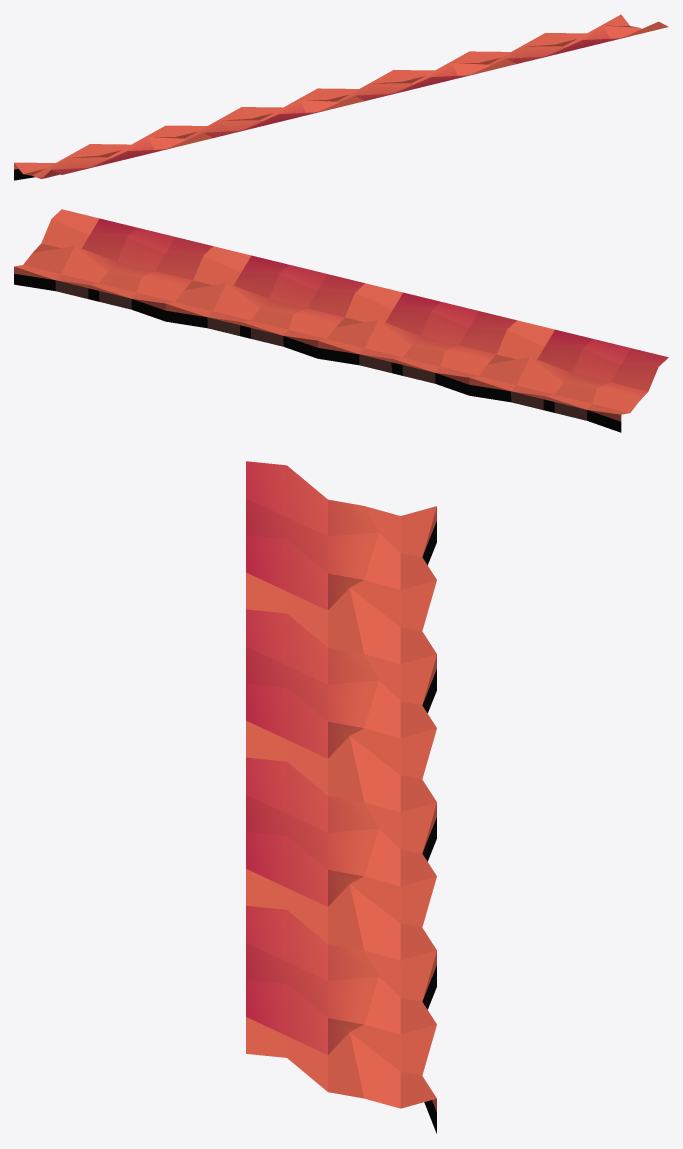
The model's file is trees_background.glb.
The picture shows the model from 3 angles, top to bottom: view 1: azimuth 30°, elevation 25°; view 2: azimuth 150°, elevation 25°; view 3: azimuth 270°, elevation 25°; orthographic projection. The views are drawn at different scales.
Parts seen in each view (by area): view 1: Trees1; view 2: Trees1; view 3: Trees1.
Part boxes in pixels (x1=…): Trees1: x1=14, y1=14, x2=668, y2=180; Trees1: x1=14, y1=209, x2=668, y2=432; Trees1: x1=246, y1=461, x2=436, y2=1133.
Bounding box in the file's own units: 96.41 × 6.14 × 13.14.
Materials: 1 (1 with a texture image).
